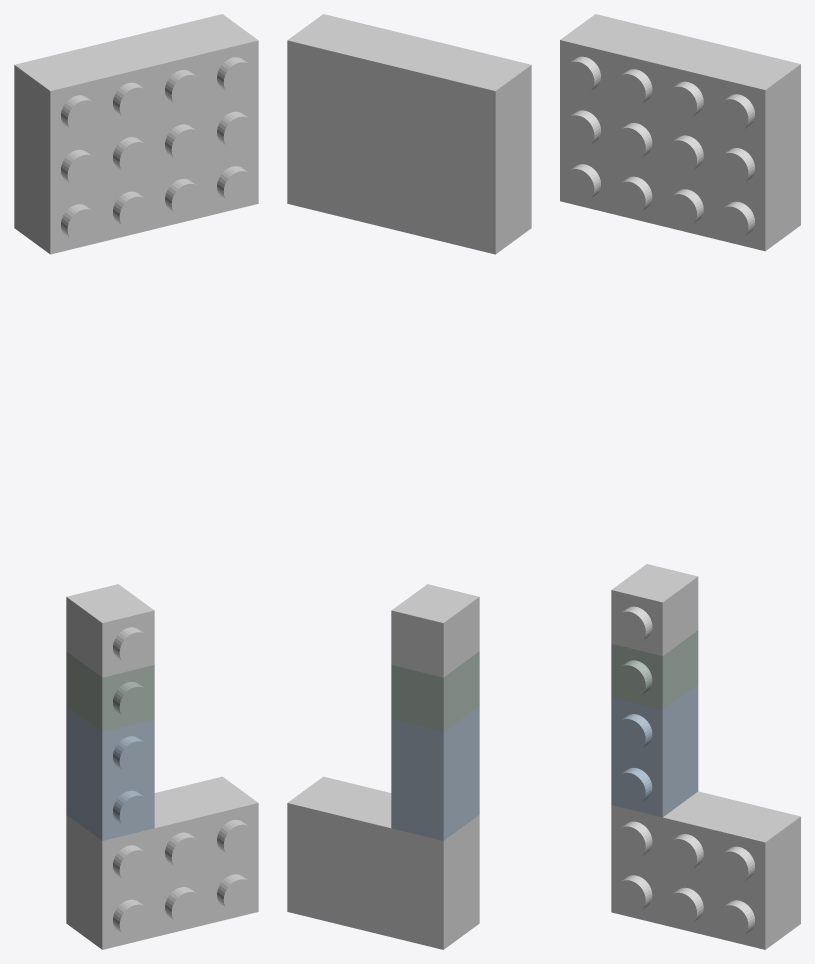
File: current.glb
3 renders of one model, left to right at view 1: azimuth 30°, elevation 25°; view 2: azimuth 150°, elevation 25°; view 3: azimuth 330°, elevation 25°, orthographic.
Visible parts, largest first — view 1: world; view 2: world; view 3: world.
Boxes of the visible parts, left/top/right/bottom form: world: left=14, top=14, right=258, bottom=949; world: left=287, top=14, right=531, bottom=949; world: left=560, top=14, right=800, bottom=949.
Bounding box in the file's own units: 32 × 128 × 11.4.
